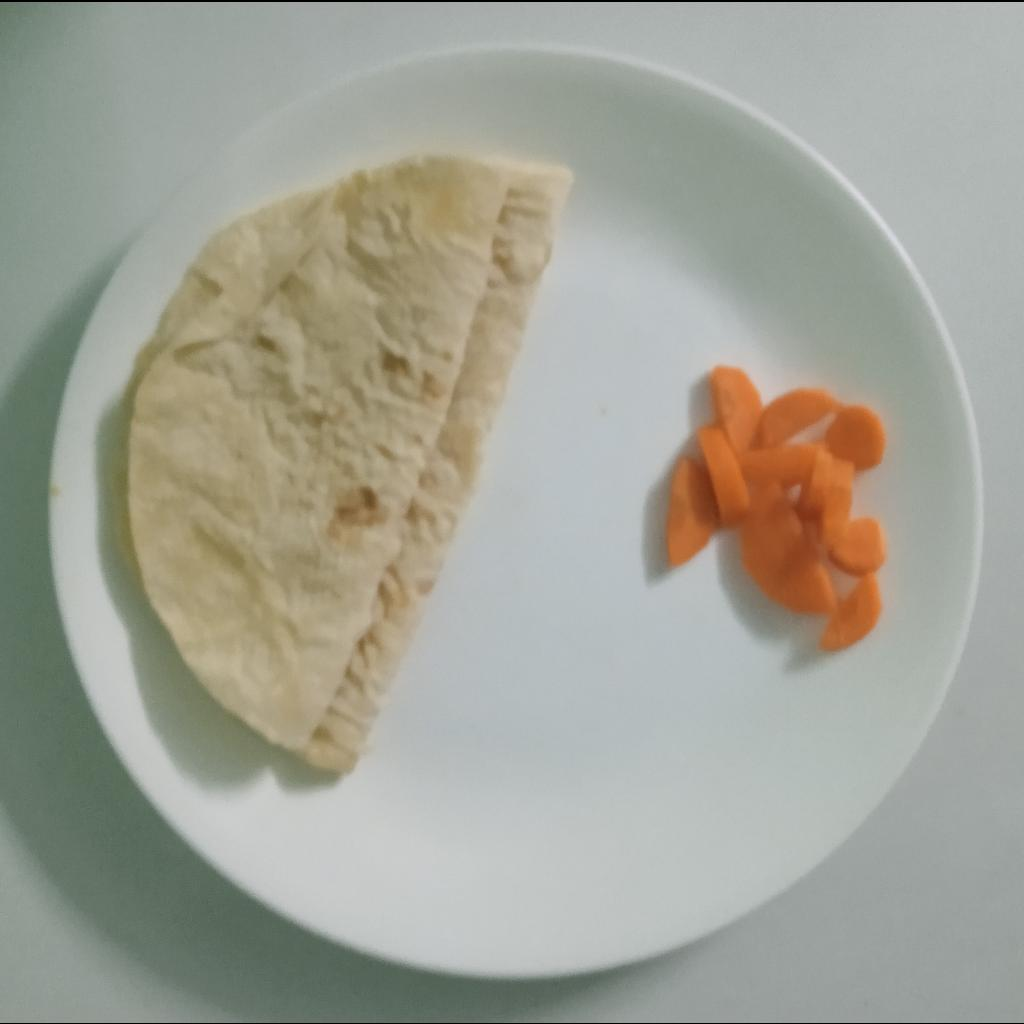carrot: (663, 366, 891, 650)
ruti: (114, 147, 569, 780)
